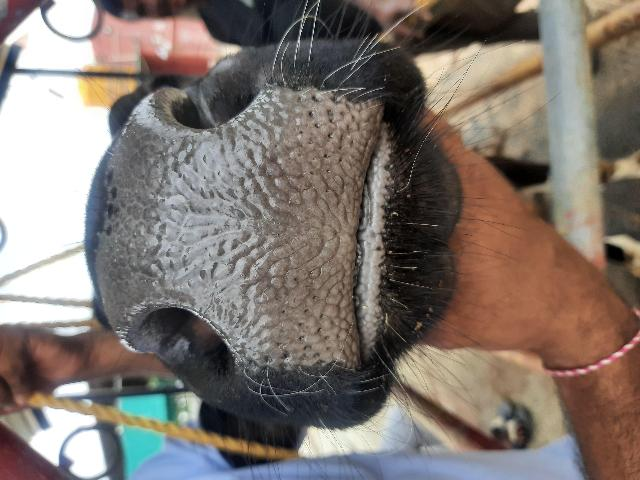Muzzle: (115, 129, 358, 307)
